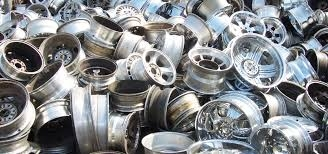metal: (222, 29, 291, 96), (193, 91, 267, 152), (67, 83, 124, 152), (178, 39, 240, 97), (26, 95, 84, 147), (36, 28, 92, 81), (1, 33, 48, 87), (80, 12, 129, 63), (1, 77, 40, 140), (129, 44, 183, 88), (103, 73, 155, 114), (221, 6, 272, 45), (75, 57, 124, 92), (137, 127, 199, 154), (280, 1, 324, 36)
